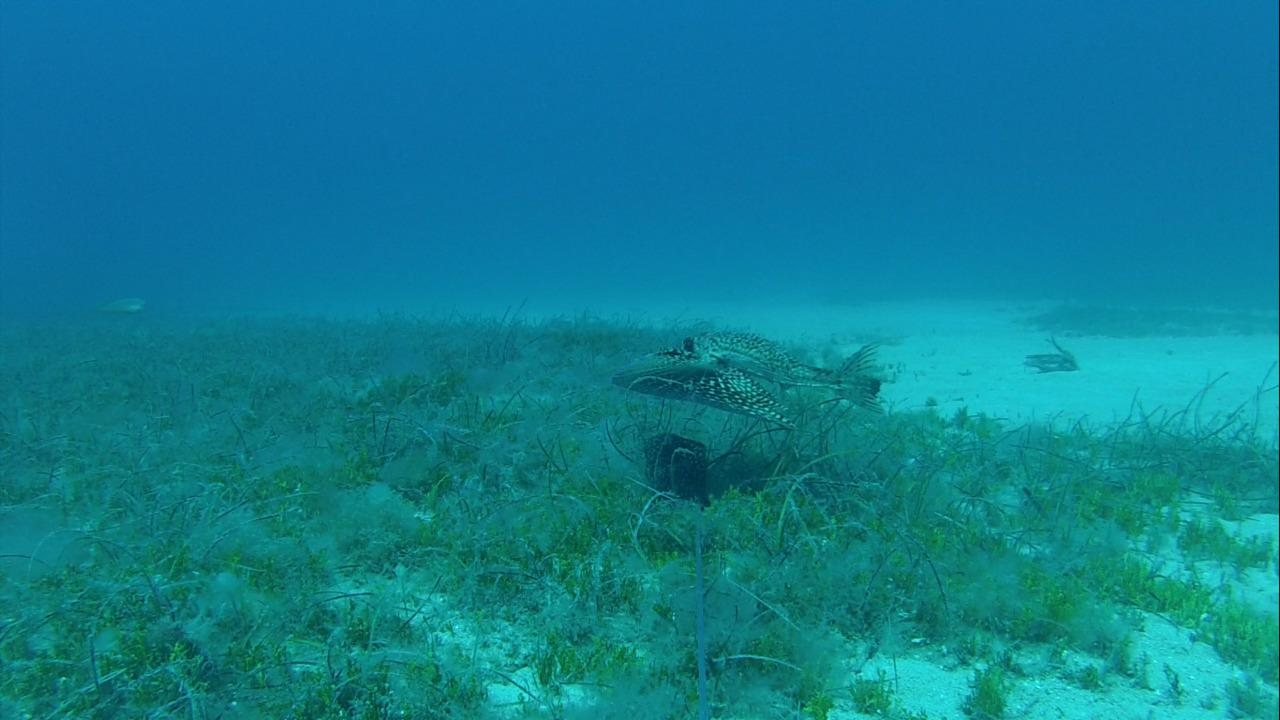dactylopterus: (614, 324, 889, 424)
raor: (99, 293, 145, 319)
